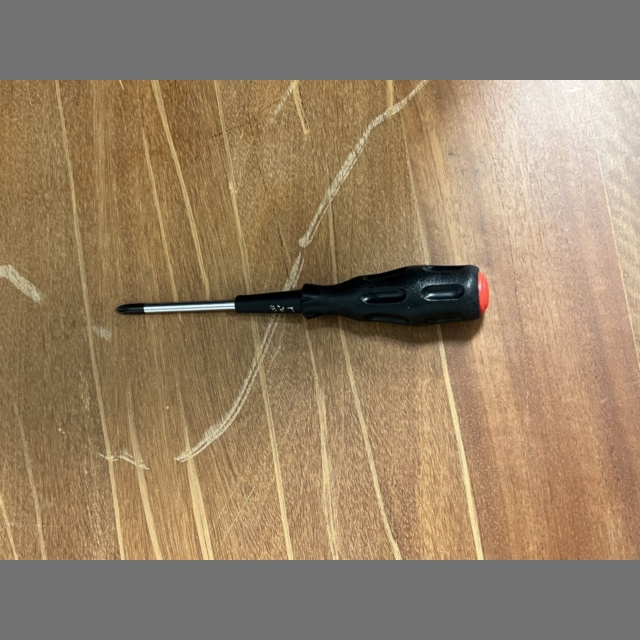screwdriver: (116, 265, 490, 326)
